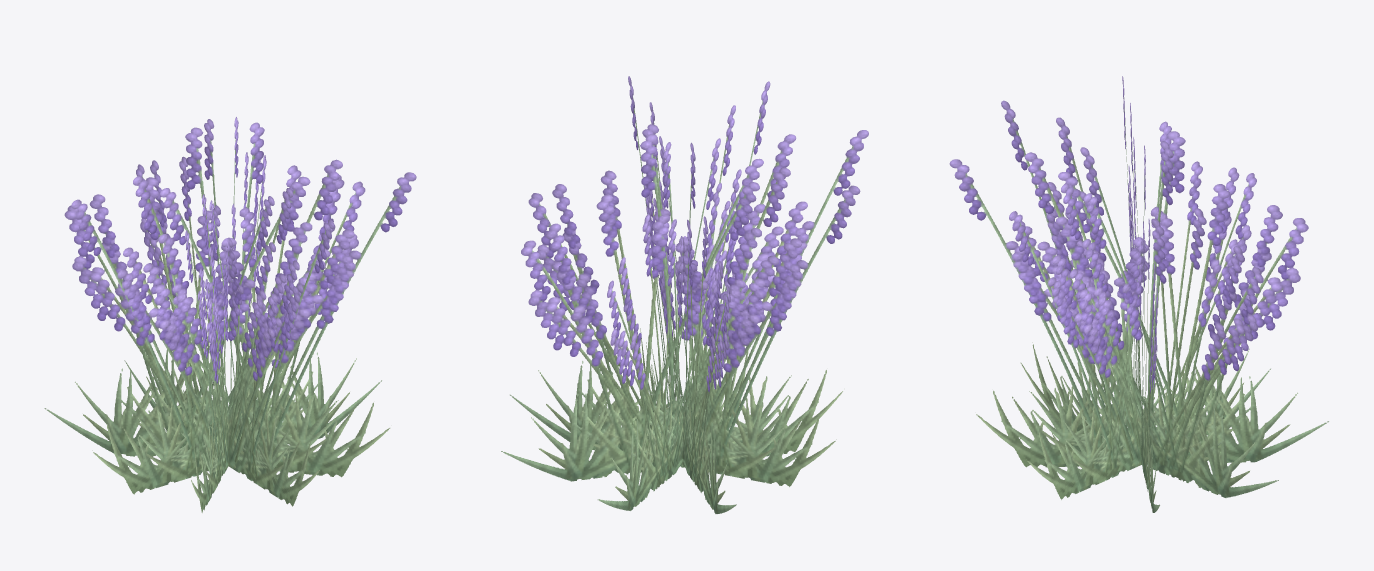
The model's file is perennial_lavender.glb.
The picture shows the model from 3 angles, left to right: view 1: azimuth 30°, elevation 25°; view 2: azimuth 150°, elevation 25°; view 3: azimuth 270°, elevation 25°; orthographic projection.
Parts seen in each view (by area): view 1: perennial_lavender; view 2: perennial_lavender; view 3: perennial_lavender.
Boxes of the visible parts, x1=… form: perennial_lavender: x1=44, y1=117, x2=416, y2=512; perennial_lavender: x1=501, y1=76, x2=868, y2=513; perennial_lavender: x1=949, y1=76, x2=1328, y2=512.
Size of the model in its own units: 0.4179 by 0.38 by 0.4193.
1 material, 1 textured.
